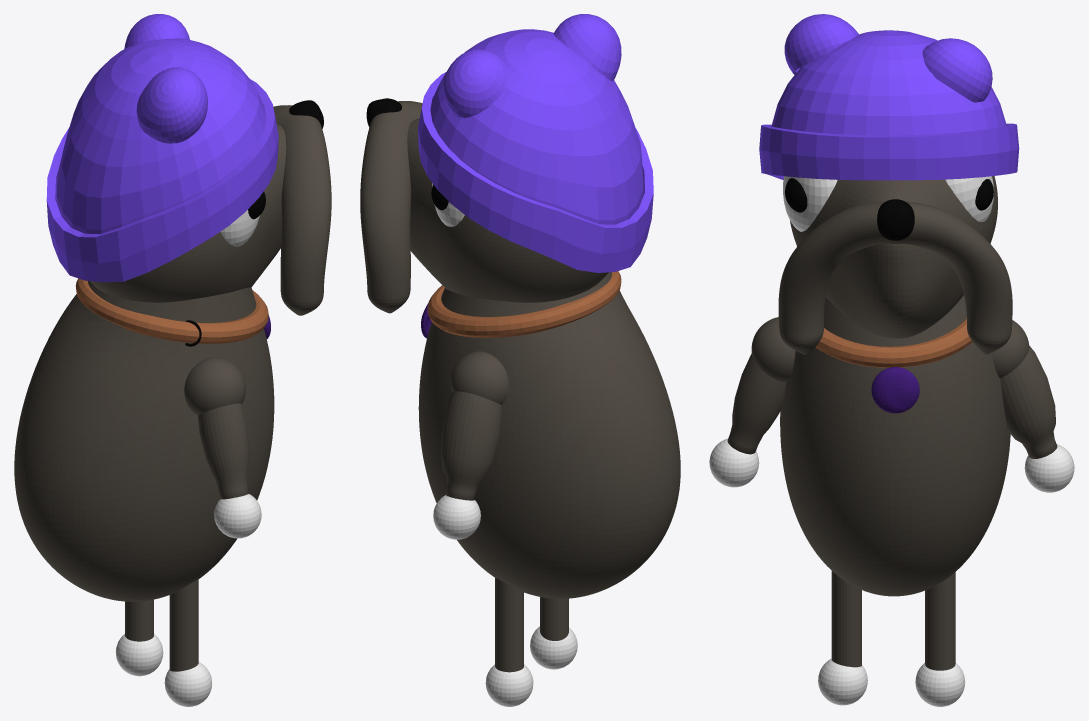
File: keonesayen.fbx
The picture shows the model from 3 angles, left to right: view 1: azimuth 30°, elevation 25°; view 2: azimuth 150°, elevation 25°; view 3: azimuth 270°, elevation 25°; orthographic projection. The views are drawn at different scales.
Visible parts, largest first — view 1: Sphere.003, Sphere.004, Sphere.008, Torus, Sphere, Sphere.009, Torus.001, Cylinder.002, Sphere.016, Cylinder, Sphere.012, Sphere.015 (+5 smaller); view 2: Sphere.003, Sphere.004, Sphere.008, Sphere, Torus, Cylinder.003, Torus.001, Sphere.010, Sphere.009, Cylinder.001, Sphere.019, Sphere.013 (+4 smaller); view 3: Sphere.003, Sphere.004, Torus, Sphere, Sphere.008, Cylinder.003, Torus.001, Cylinder.002, Sphere.010, Cylinder.001, Cylinder, Sphere.009 (+11 smaller).
Part boxes in pixels (x1,y1,x2,y2): Sphere.003: [14, 281, 274, 601]; Sphere.004: [57, 38, 266, 233]; Sphere.008: [46, 79, 278, 282]; Torus: [273, 105, 331, 315]; Sphere: [90, 124, 286, 302]; Sphere.009: [136, 67, 207, 143]; Torus.001: [75, 278, 268, 343]; Cylinder.002: [198, 403, 249, 499]; Sphere.016: [184, 357, 245, 415]; Cylinder: [169, 579, 198, 671]; Sphere.012: [214, 494, 261, 538]; Sphere.015: [164, 662, 212, 706]; Sphere.003: [418, 272, 680, 598]; Sphere.004: [430, 29, 643, 224]; Sphere.008: [418, 72, 653, 272]; Sphere: [407, 118, 608, 302]; Torus: [360, 101, 422, 313]; Cylinder.003: [440, 391, 501, 500]; Torus.001: [427, 271, 621, 337]; Sphere.010: [443, 49, 508, 117]; Sphere.009: [553, 14, 621, 81]; Cylinder.001: [495, 578, 523, 672]; Sphere.019: [450, 351, 508, 405]; Sphere.013: [433, 495, 480, 539]; Sphere.003: [780, 295, 1010, 596]; Sphere.004: [771, 30, 1006, 135]; Torus: [778, 201, 1012, 354]; Sphere: [790, 176, 997, 338]; Sphere.008: [759, 123, 1019, 180]; Cylinder.003: [1000, 346, 1057, 458]; Torus.001: [815, 318, 972, 367]; Cylinder.002: [727, 354, 786, 454]; Sphere.010: [922, 38, 992, 102]; Cylinder.001: [925, 572, 955, 670]; Cylinder: [831, 571, 861, 667]; Sphere.009: [784, 14, 858, 74].
Size of the model in its own units: 338 by 705 by 344.
